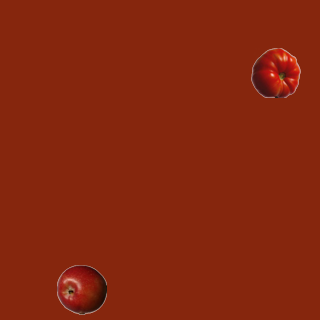Apple Braeburn: (56, 264, 106, 314)
Tomato 3: (250, 47, 300, 97)
